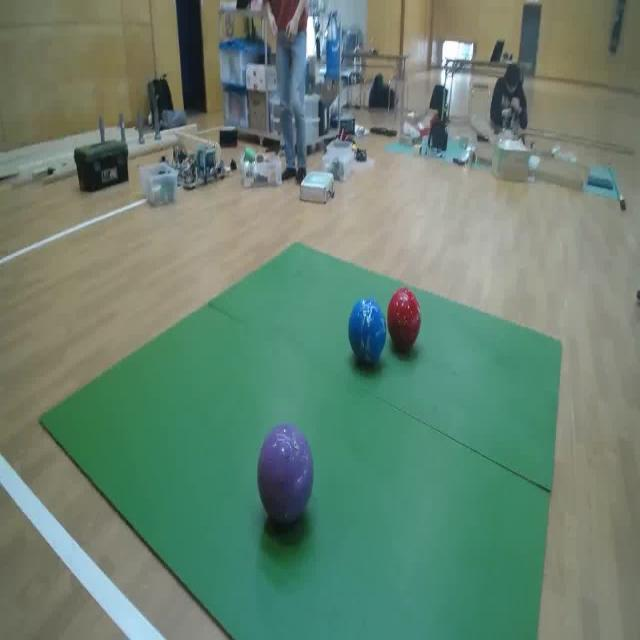blue_ball: (349, 298, 387, 364)
purple_ball: (257, 422, 313, 524)
red_ball: (388, 287, 422, 351)
